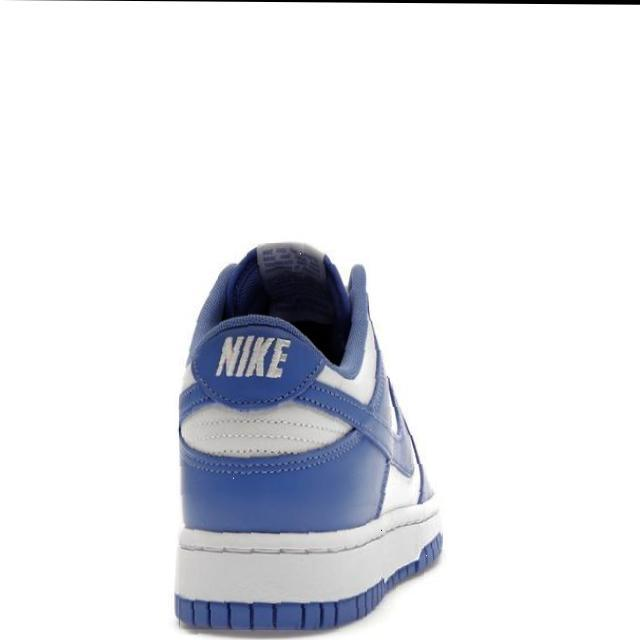J1_InsoleChar: (2, 2, 636, 639)
J1_MateComp: (172, 240, 444, 631)
J1_StitchPattern: (171, 509, 444, 631), (177, 328, 391, 473), (175, 508, 443, 558), (178, 406, 352, 457), (212, 331, 292, 381), (254, 241, 327, 282)
